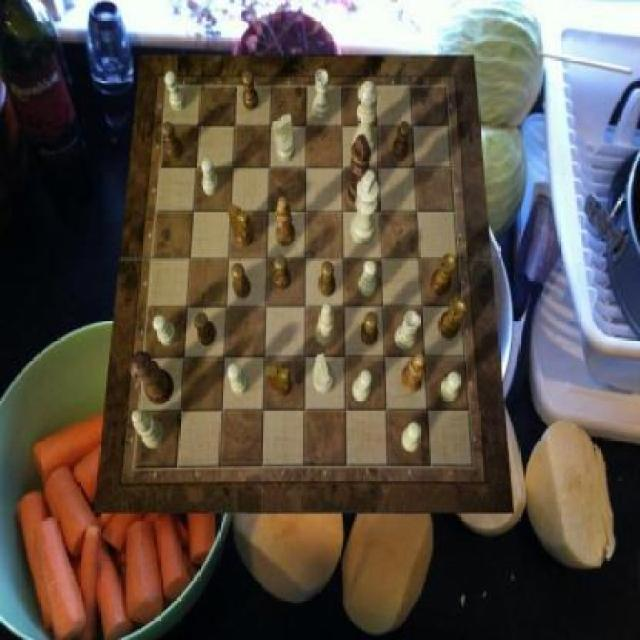bishop: (277, 197, 297, 248), (400, 354, 425, 394)
black-bishop: (348, 133, 370, 204)
black-king: (229, 204, 254, 248), (266, 364, 292, 398)
black-knight: (161, 122, 184, 160), (195, 314, 218, 348), (231, 263, 251, 298), (392, 122, 410, 160), (243, 71, 260, 111), (360, 312, 378, 346), (319, 262, 336, 298), (274, 255, 291, 290)
black-pawn: (129, 349, 174, 404)
black-queen: (439, 300, 466, 340), (432, 254, 457, 296)
black-rook: (132, 411, 166, 449), (317, 303, 337, 347)
white-bishop: (351, 169, 378, 244)
white-king: (274, 114, 297, 161), (312, 354, 335, 394)
white-knight: (165, 72, 187, 112), (152, 316, 176, 346), (440, 371, 461, 403), (202, 157, 219, 195), (228, 365, 248, 397), (352, 371, 372, 403), (359, 259, 376, 296), (402, 422, 422, 452)
white-pawn: (352, 80, 378, 158)
white-queen: (396, 311, 422, 351), (314, 69, 331, 120)
